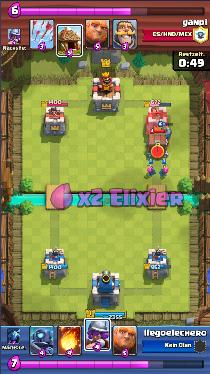ally_archer: (159, 164, 170, 176), (146, 165, 157, 175)
ally_goblin_cage: (148, 133, 169, 156)
ally_knight: (160, 125, 172, 137)
